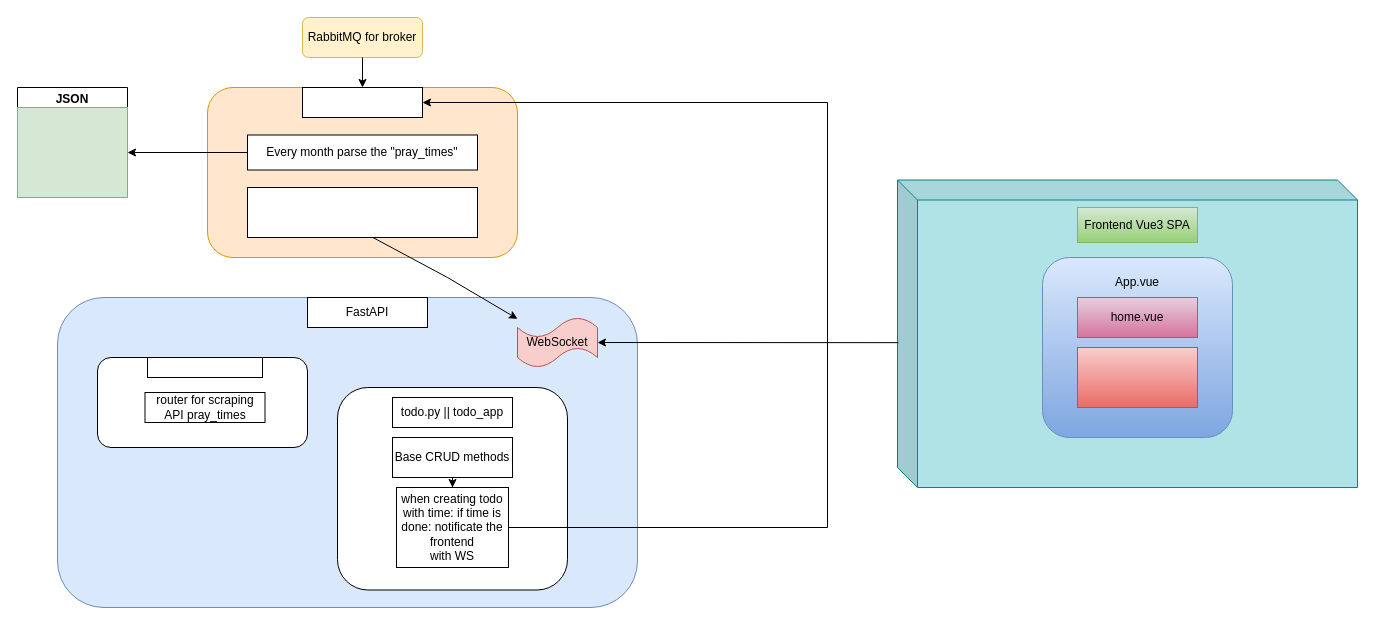
The diagram is 1375 pixels wide and 625 high, and some of its shapes have lost their labels. Here are the shapes that lost their labels. From the top down, the box of each, then its label:
(302, 86, 422, 118): Celery
(16, 106, 128, 198): [ { pray_times } ]
(246, 186, 478, 238): Runs send notification: if local_time == pray_time: ...
(146, 356, 262, 378): pray.py || pray_app
(1076, 346, 1198, 408): todo.vue
